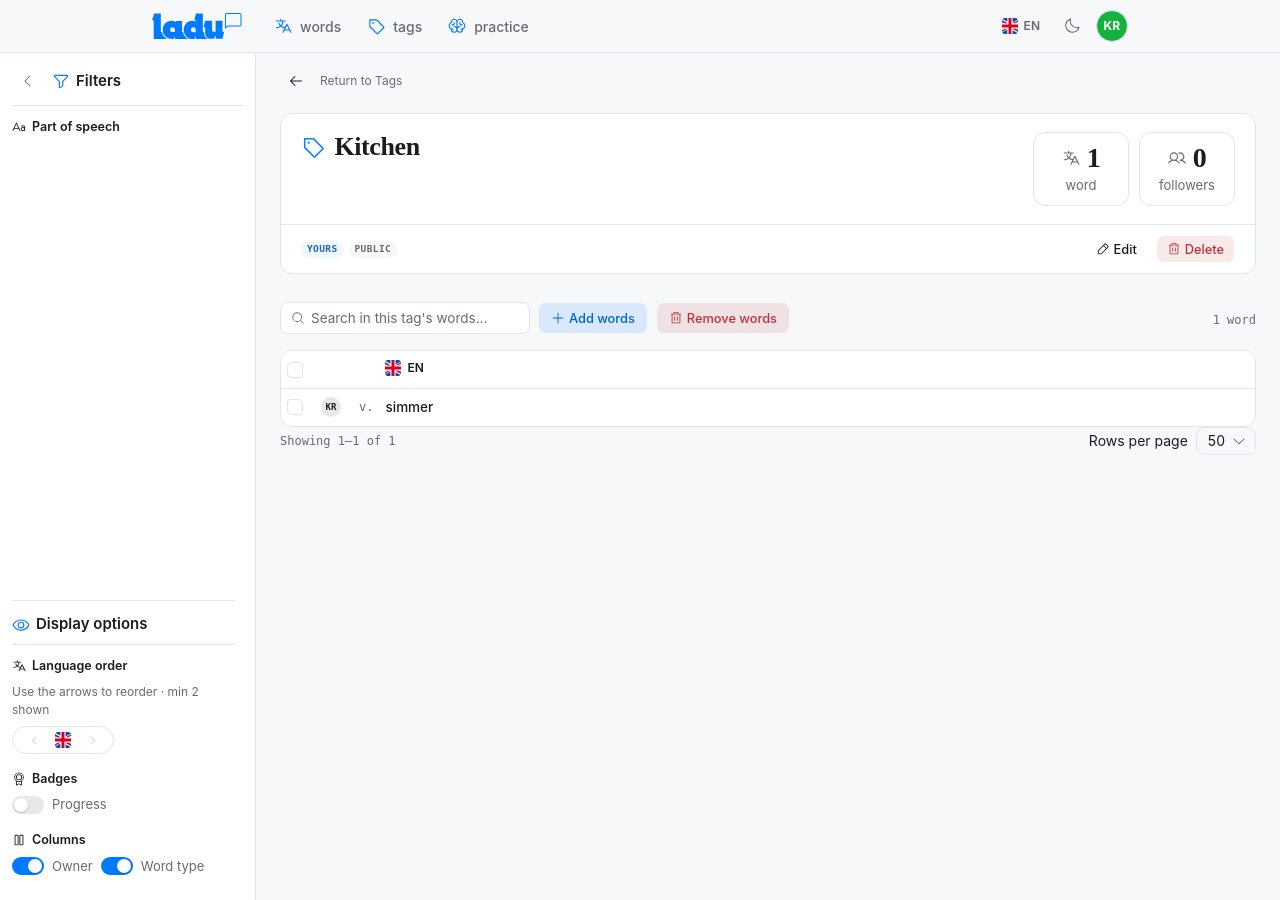
TagViewPage — owned tag › Remove words shows the trash column and disables Add words; Cancel hides them again
The width and height of the screenshot is (1280, 900).
Expected: the button "simmer" is shown, [382,395,437,420]
Click the button "Remove words" at (723, 318), box [656,302,790,334]
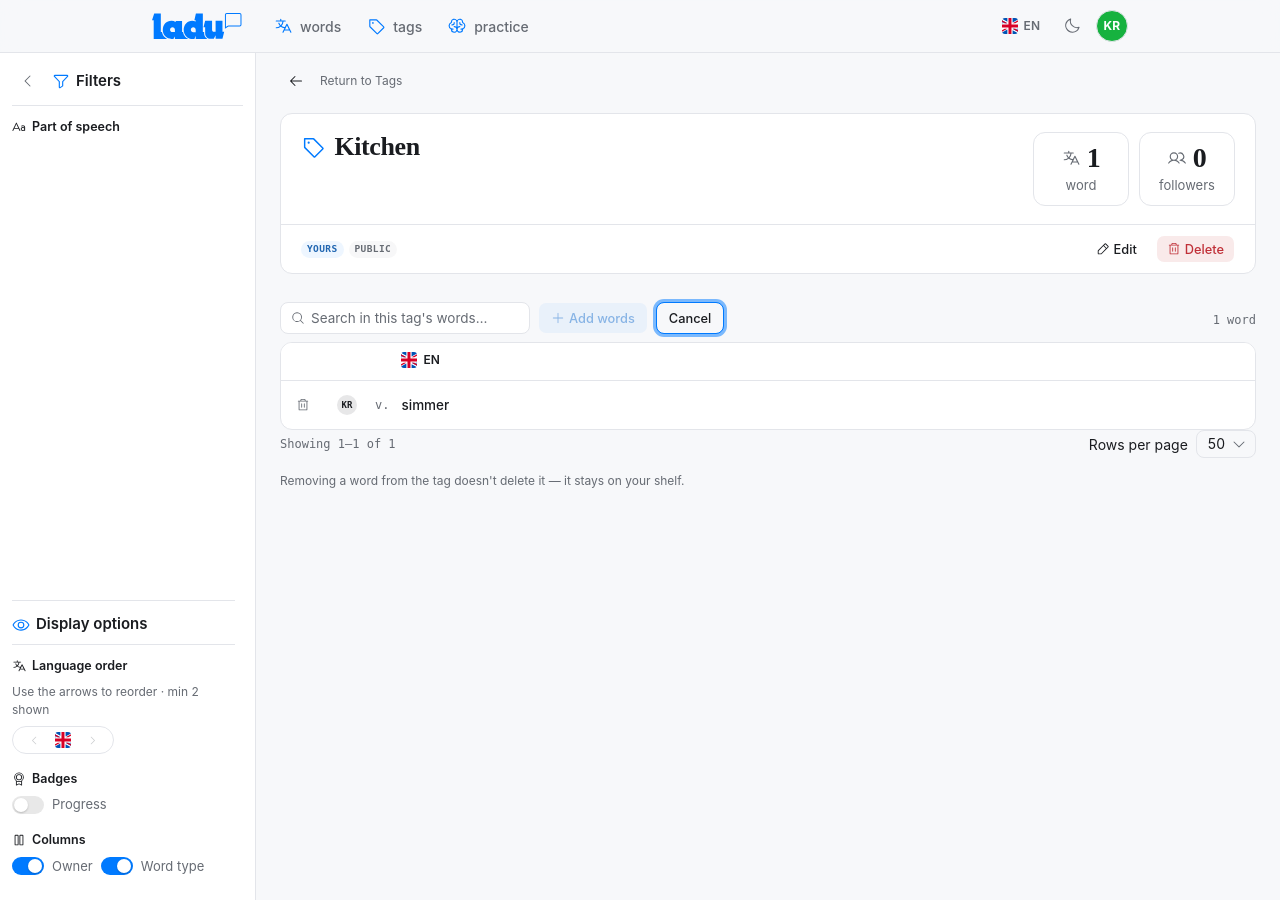
Expected: the button named "Remove from tag" is shown, [287,389,319,421]
Expected: the button "Add words" is disabled, [538,302,648,334]
Click the button "Cancel" at (690, 318), box [656,302,724,334]
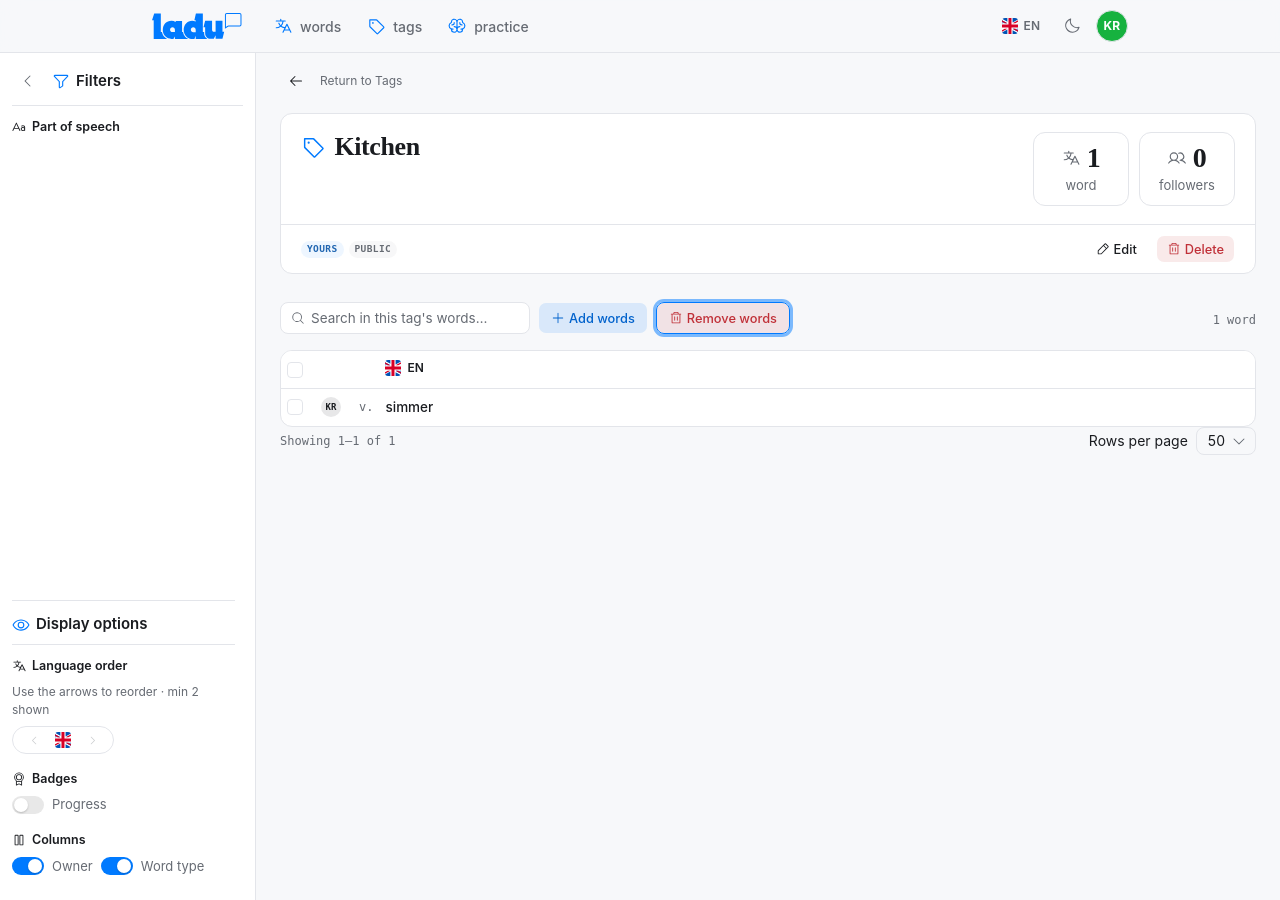
Expected: the button "Add words" is enabled, [538,302,648,334]
